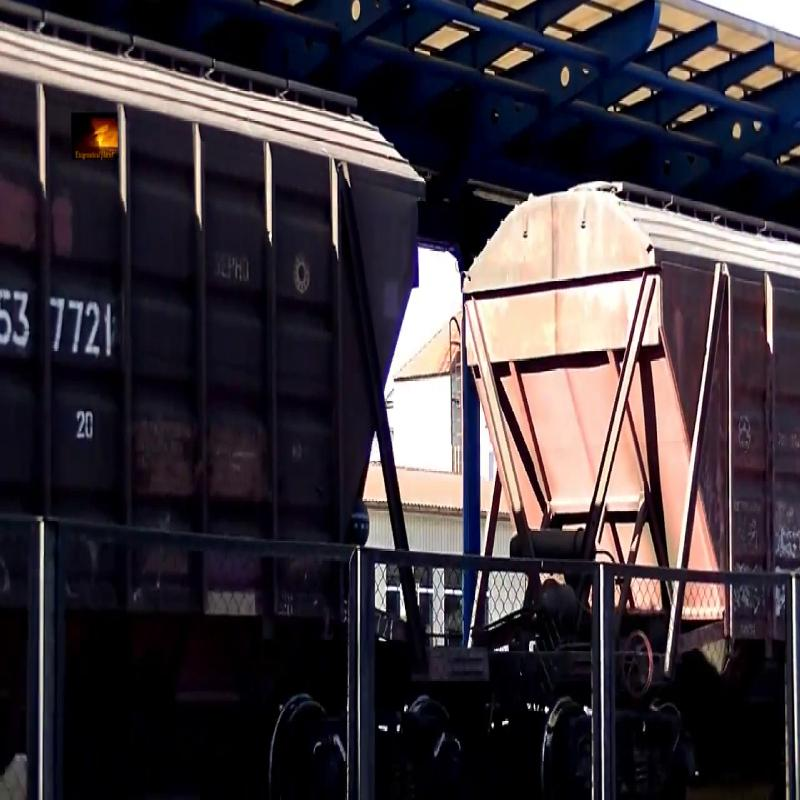train: (2, 24, 432, 772), (460, 22, 800, 771)
